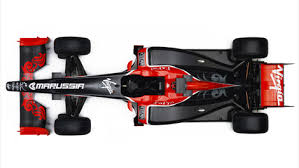FormulaOneCar: (4, 31, 299, 145)
